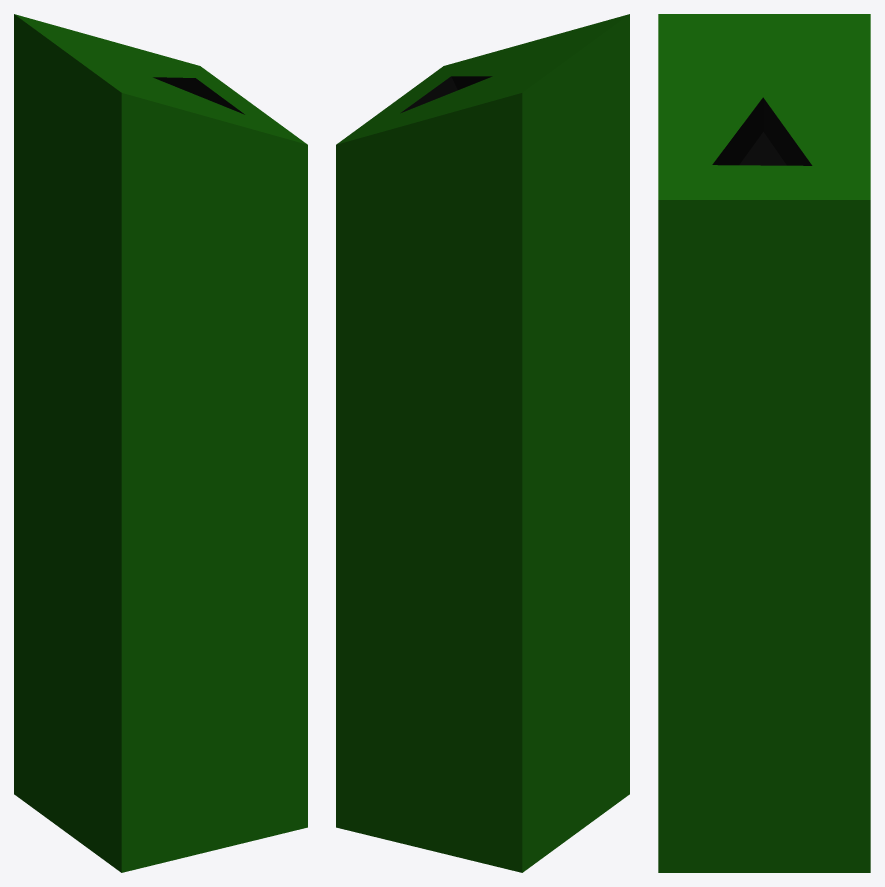
File: gTriConsole.gltf
3 renders of one model, left to right at view 1: azimuth 30°, elevation 25°; view 2: azimuth 150°, elevation 25°; view 3: azimuth 270°, elevation 25°, orthographic.
Visible parts, largest first — view 1: Cube.004; view 2: Cube.004; view 3: Cube.004.
Part boxes in pixels (bbox=[...]): Cube.004: bbox=[14, 14, 307, 872]; Cube.004: bbox=[336, 14, 629, 872]; Cube.004: bbox=[658, 14, 870, 872].
Bounding box in the file's own units: 2 × 8 × 2.
